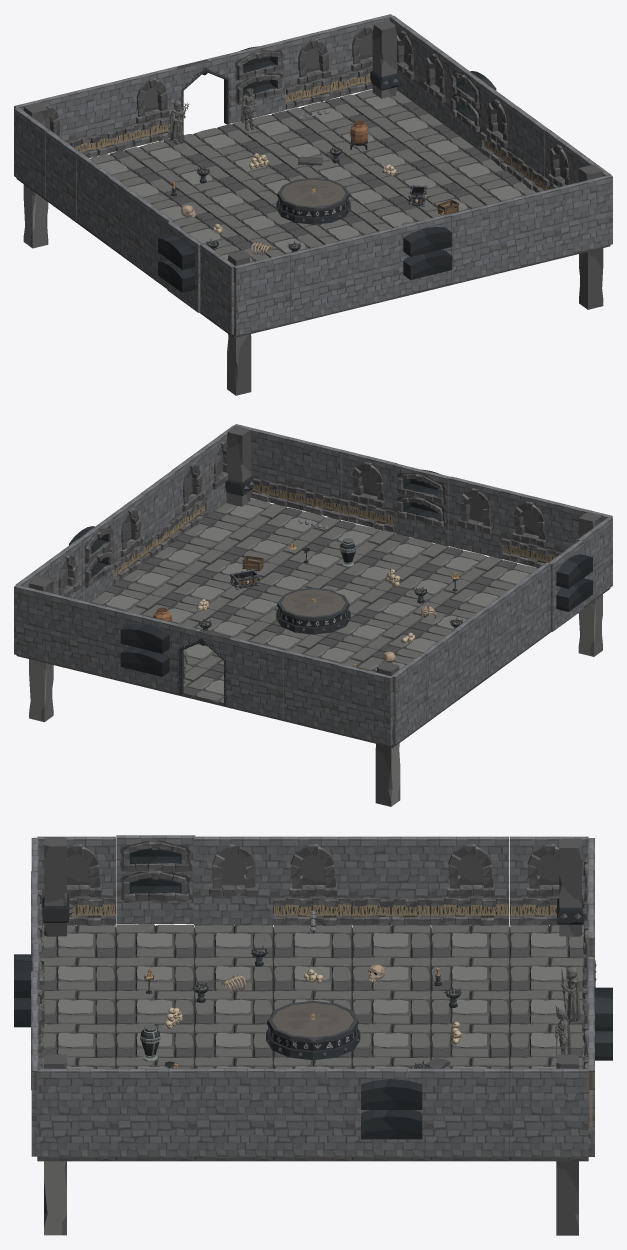
Rendered from environment.glb.
3 views of the same model, one above another, from view 1: azimuth 30°, elevation 25°; view 2: azimuth 150°, elevation 25°; view 3: azimuth 270°, elevation 25° (orthographic). The views are drawn at different scales.
Parts seen in each view (by area): view 1: SM_Bld_Wall_01.006, SM_Bld_Wall_01.002, SM_Bld_Wall_02.004, SM_Bld_Wall_06.002, SM_Bld_Wall_02.002, SM_Bld_Wall_01.005, SM_Bld_Wall_03.004, SM_Bld_Wall_02.003, SM_Bld_Wall_01.001, SM_Bld_Wall_02.001, SM_Bld_Wall_06.001, SM_Prop_Fireplace_02.001 (+50 smaller); view 2: SM_Bld_Wall_02.010, SM_Bld_Wall_06.001, SM_Bld_Wall_06.002, SM_Bld_Wall_02.001, SM_Bld_Wall_03.004, SM_Bld_Wall_01.002, SM_Bld_Wall_02.002, SM_Bld_Wall_02.004, SM_Bld_Wall_01.001, SM_Bld_Wall_02.009, SM_Bld_Wall_02.003, SM_Prop_Fireplace_02.001 (+50 smaller); view 3: SM_Bld_Wall_02.005, SM_Bld_Wall_01.004, SM_Bld_Wall_02.007, SM_Bld_Wall_01.003, SM_Bld_Wall_03.006, SM_Bld_Wall_06.003, SM_Bld_Wall_02.006, SM_Bld_Wall_03.011, SM_Bld_Wall_03.012, SM_Bld_Wall_03.013, SM_Bld_Wall_02.008, SM_Bld_Wall_06.004 (+50 smaller).
Part boxes in pixels (x1,y1,x2,y2): SM_Bld_Wall_01.006: [233, 253, 289, 335]; SM_Bld_Wall_01.002: [503, 188, 559, 270]; SM_Bld_Wall_02.004: [449, 201, 505, 283]; SM_Bld_Wall_06.002: [395, 214, 452, 296]; SM_Bld_Wall_02.002: [283, 27, 340, 109]; SM_Bld_Wall_01.005: [556, 174, 612, 257]; SM_Bld_Wall_03.004: [341, 227, 397, 309]; SM_Bld_Wall_02.003: [288, 240, 343, 323]; SM_Bld_Wall_01.001: [68, 80, 125, 157]; SM_Bld_Wall_02.001: [122, 66, 178, 148]; SM_Bld_Wall_06.001: [230, 40, 285, 123]; SM_Prop_Fireplace_02.001: [276, 178, 350, 224]; SM_Bld_Wall_02.010: [337, 663, 392, 745]; SM_Bld_Wall_06.001: [120, 611, 177, 693]; SM_Bld_Wall_06.002: [394, 464, 450, 546]; SM_Bld_Wall_02.001: [229, 637, 284, 719]; SM_Bld_Wall_03.004: [448, 476, 504, 559]; SM_Bld_Wall_01.002: [286, 437, 343, 519]; SM_Bld_Wall_02.002: [67, 598, 123, 680]; SM_Bld_Wall_02.004: [340, 450, 397, 532]; SM_Bld_Wall_01.001: [283, 650, 339, 732]; SM_Bld_Wall_02.009: [14, 585, 70, 667]; SM_Bld_Wall_02.003: [501, 489, 558, 568]; SM_Prop_Fireplace_02.001: [276, 587, 350, 634]; SM_Bld_Wall_02.005: [272, 1068, 352, 1157]; SM_Bld_Wall_01.004: [351, 836, 430, 925]; SM_Bld_Wall_02.007: [430, 836, 509, 925]; SM_Bld_Wall_01.003: [194, 1068, 273, 1156]; SM_Bld_Wall_03.006: [431, 1068, 509, 1157]; SM_Bld_Wall_06.003: [352, 1068, 430, 1157]; SM_Bld_Wall_02.006: [116, 1068, 194, 1157]; SM_Bld_Wall_03.011: [194, 836, 272, 925]; SM_Bld_Wall_03.012: [510, 1068, 588, 1157]; SM_Bld_Wall_03.013: [37, 1068, 115, 1157]; SM_Bld_Wall_02.008: [273, 836, 351, 925]; SM_Bld_Wall_06.004: [116, 835, 195, 923].
Bounding box in the file's own units: 180 × 68.92 × 181.
1 material, 1 textured.
